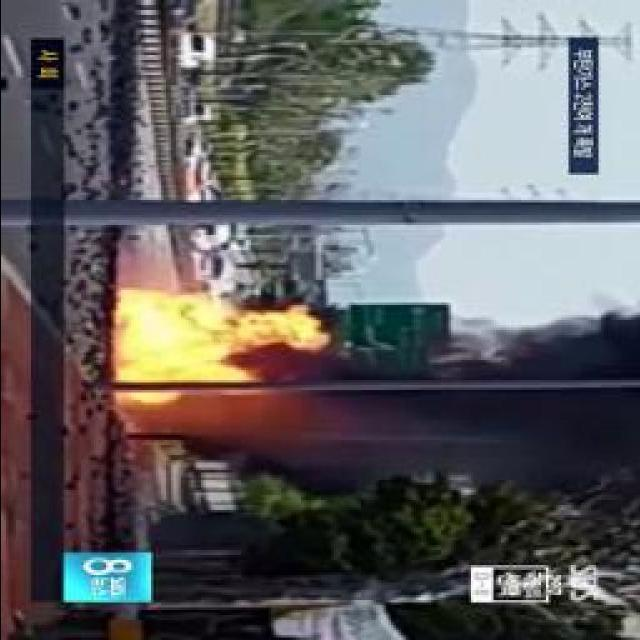Fire: (110, 294, 310, 354), (100, 357, 236, 405)
